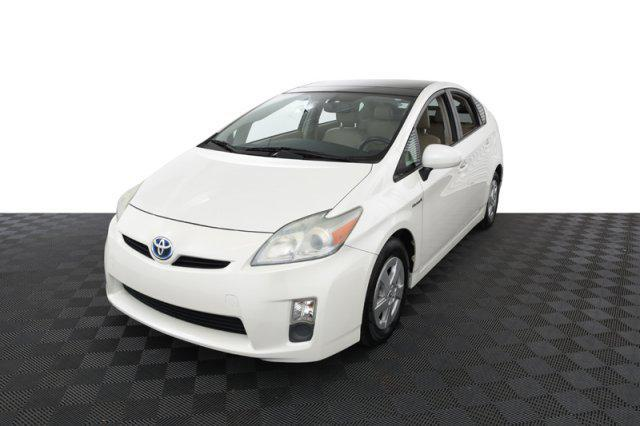Toyota Prius: (100, 75, 505, 368)
